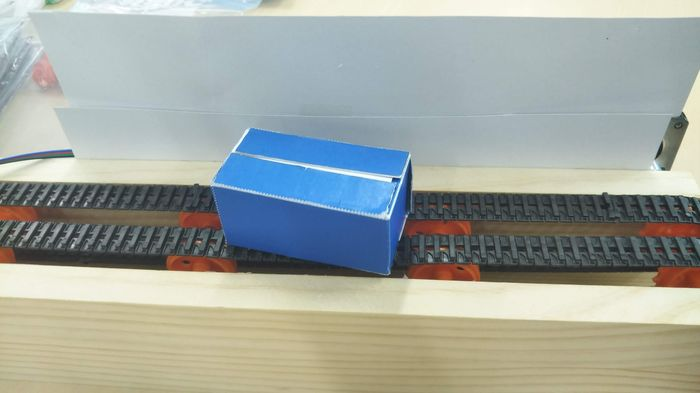box3: (207, 124, 420, 279)
